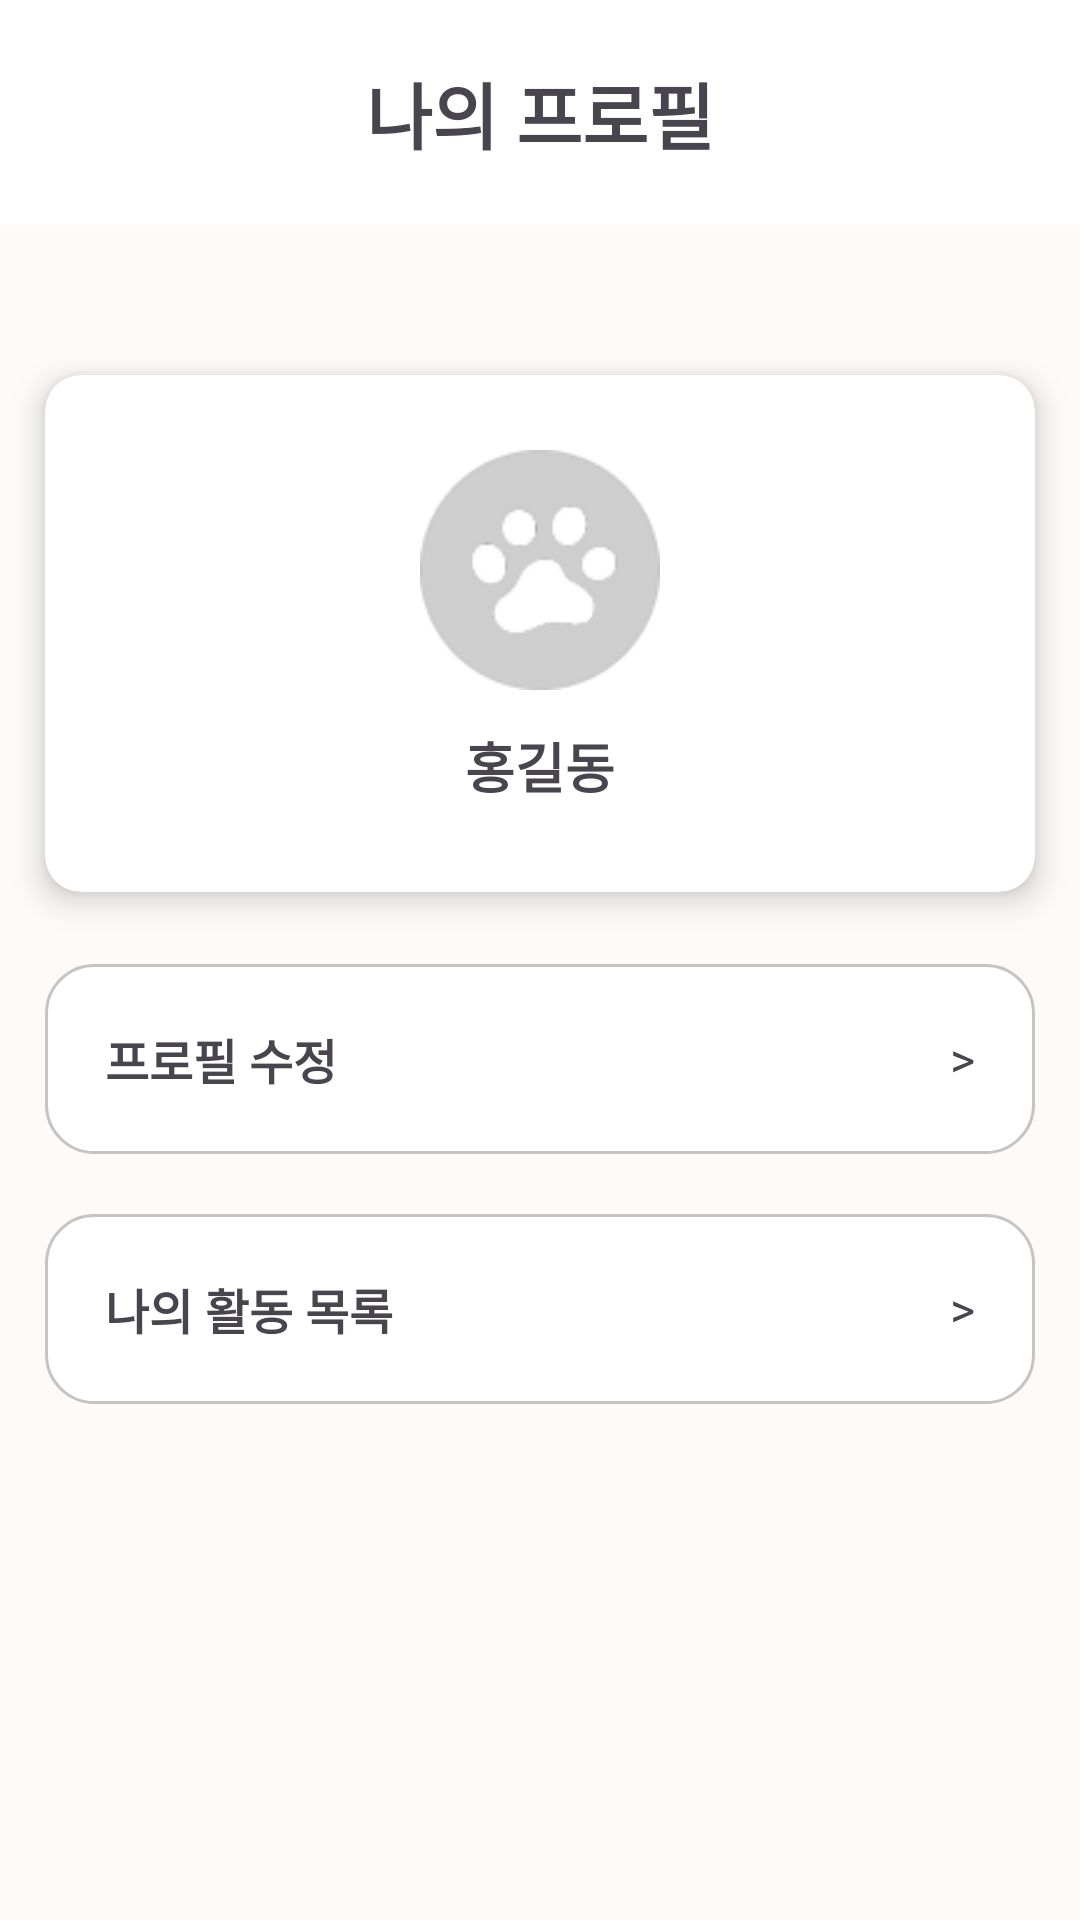

Named icons in this screenshot (1080px×1920px) and their centers, point (x, y):
profileimage: point (540, 570)
